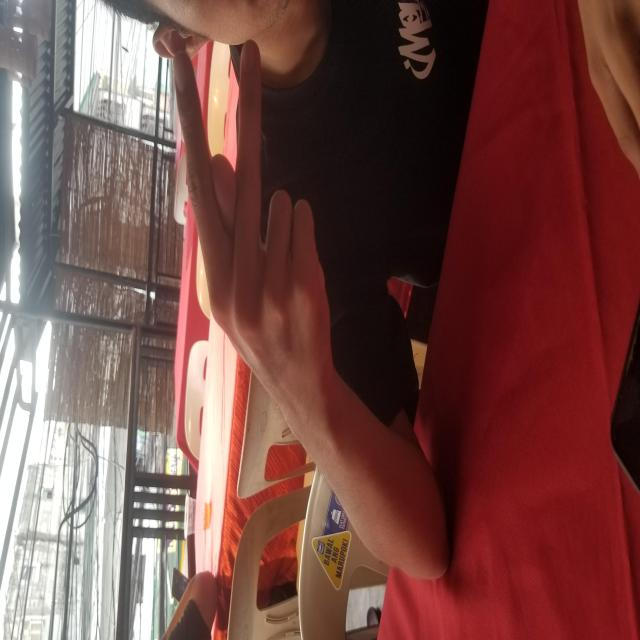K: (232, 169, 609, 336)
